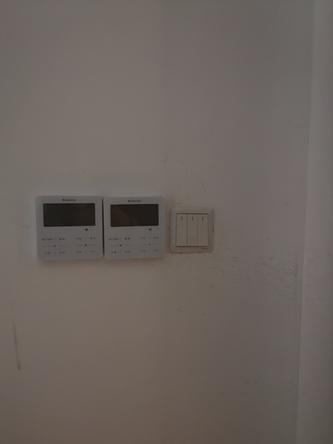switch: (196, 212, 213, 247), (186, 210, 200, 247), (177, 211, 189, 247)
